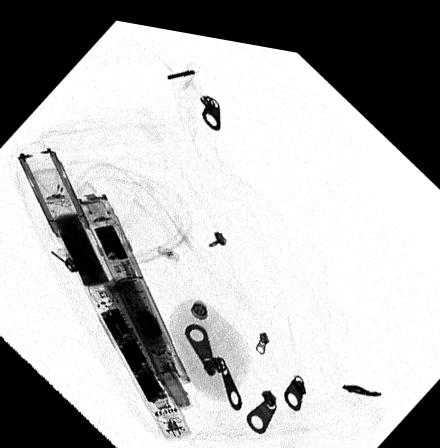Baton: (15, 144, 191, 435), (75, 188, 191, 381)
